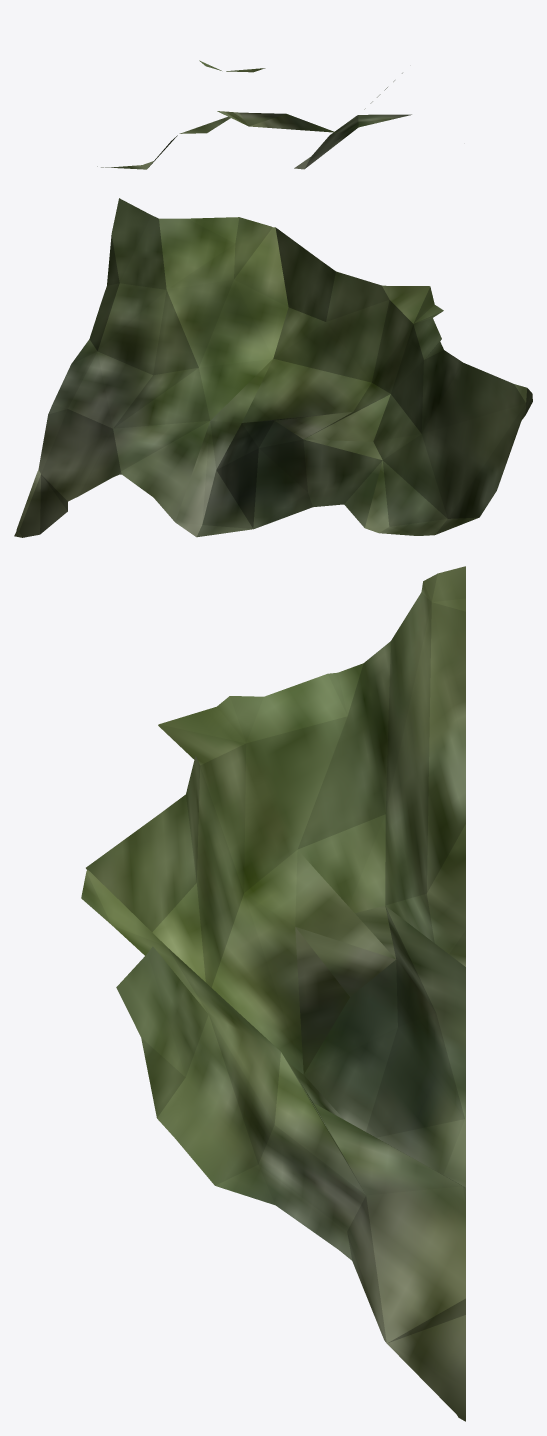
The picture shows the model from 3 angles, top to bottom: view 1: azimuth 30°, elevation 25°; view 2: azimuth 150°, elevation 25°; view 3: azimuth 270°, elevation 25°; orthographic projection. The views are drawn at different scales.
Bounding box in the file's own units: 0.8275 × 0.3979 × 0.3194.
1 material, 1 textured.
